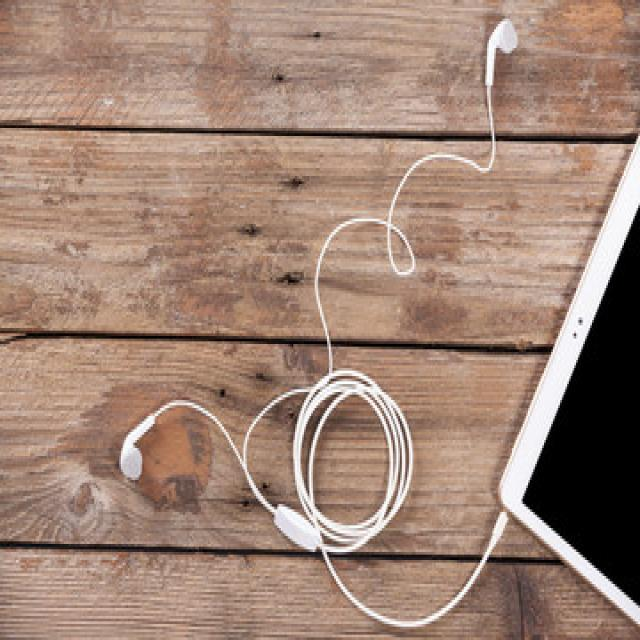Earphone: (119, 20, 518, 629)
